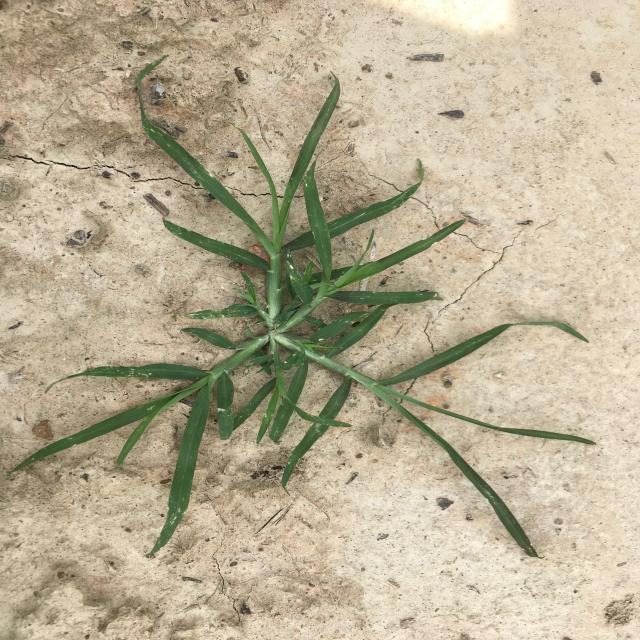Goosegrass: (10, 54, 594, 559)
